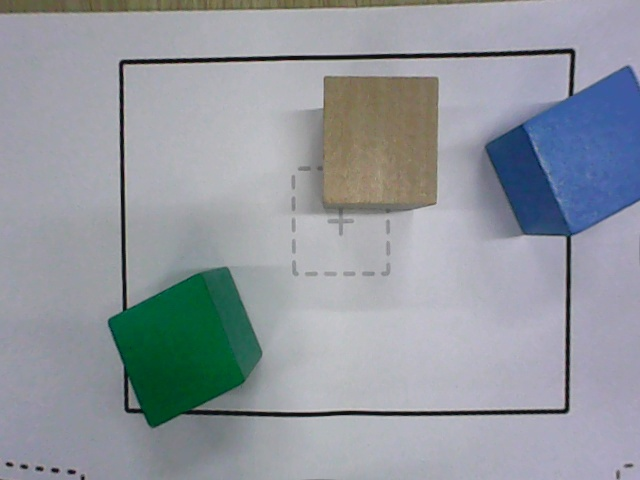upside of big cube: (107, 272, 245, 431), (522, 67, 639, 236), (322, 77, 439, 204)
